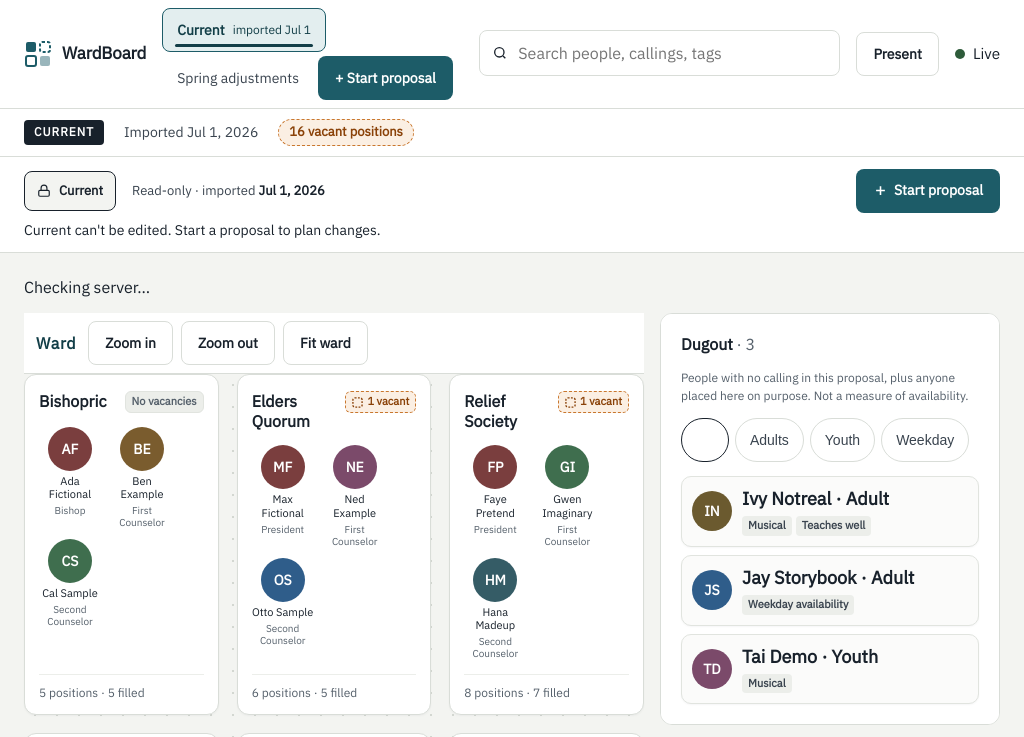
BoardShell › status strip: PROPOSED with +callings/−releases from diffBoards once baseline loads
The width and height of the screenshot is (1024, 737).
Click the tab "Spring adjustments": click(238, 78) [162,56,314,100]
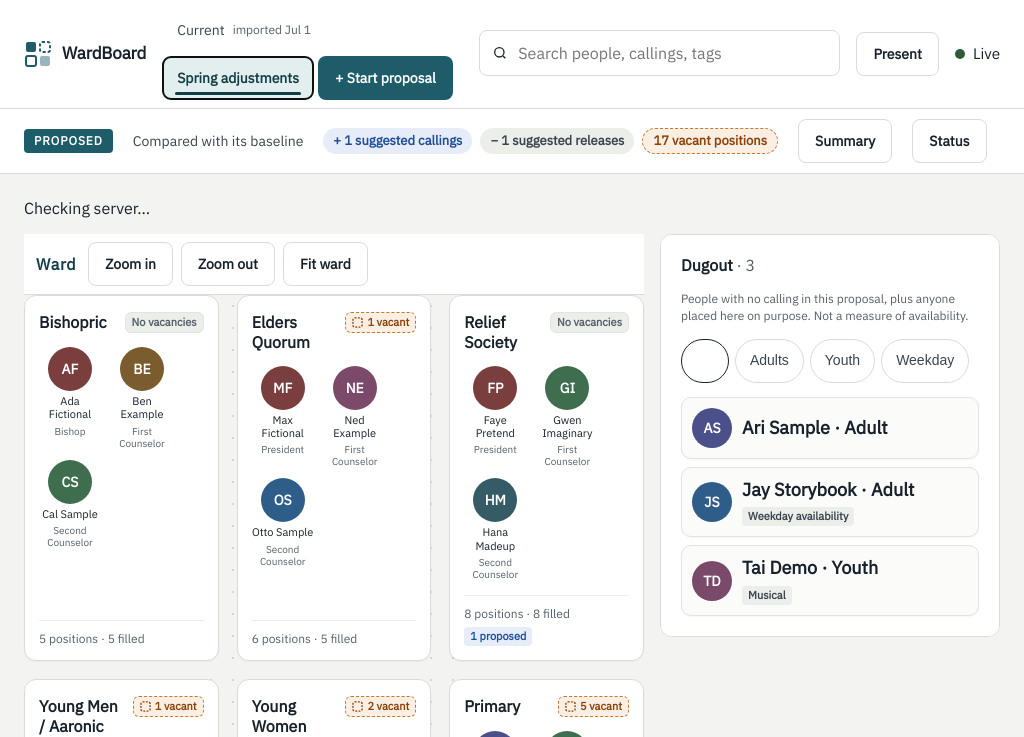
expect the text "PROPOSED" is shown: met, box [24,129,113,153]
expect the text "Compared with its baseline" is shown: met, box [133,132,303,150]
